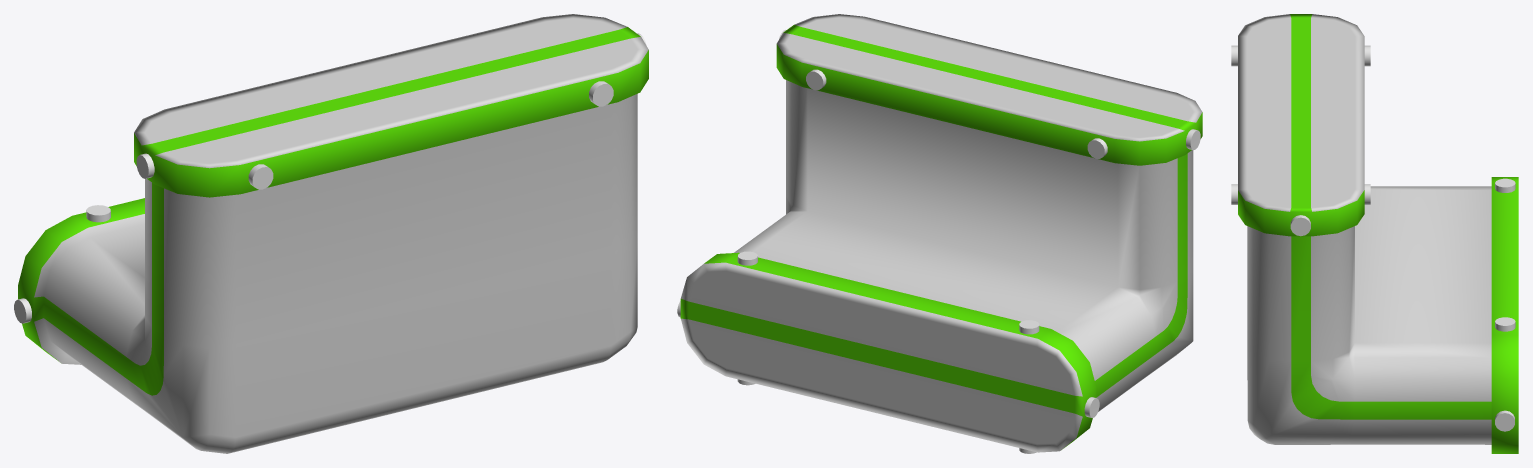
Rendered from Turn.fbx.
3 views of the same model, side by side, from view 1: azimuth 30°, elevation 25°; view 2: azimuth 150°, elevation 25°; view 3: azimuth 270°, elevation 25° (orthographic). The views are drawn at different scales.
Visible parts, largest first — view 1: Turn; view 2: Turn; view 3: Turn.
Part boxes in pixels (x1,y1,x2,y2): Turn: (14, 14, 648, 453); Turn: (677, 14, 1202, 453); Turn: (1231, 14, 1518, 453).
Bounding box in the file's own units: 13.11 × 8.01 × 7.85.
